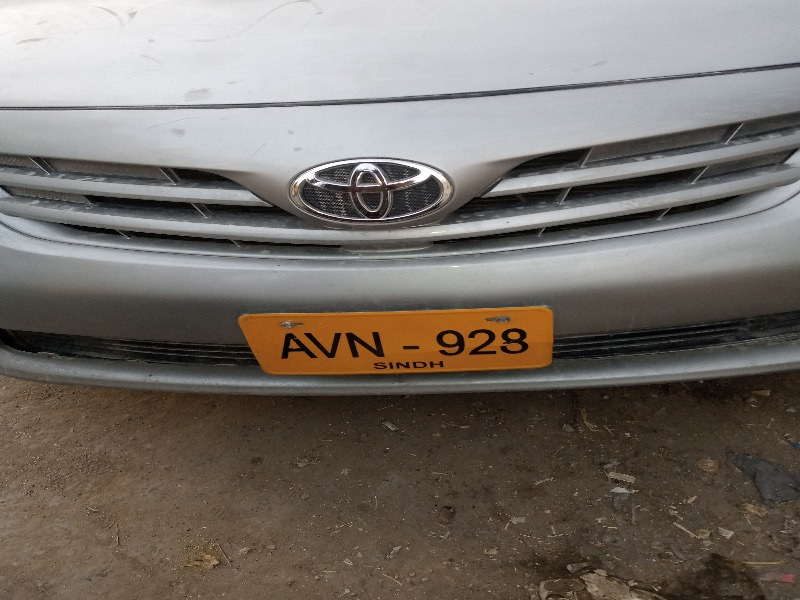License Plate: (234, 307, 566, 385)
